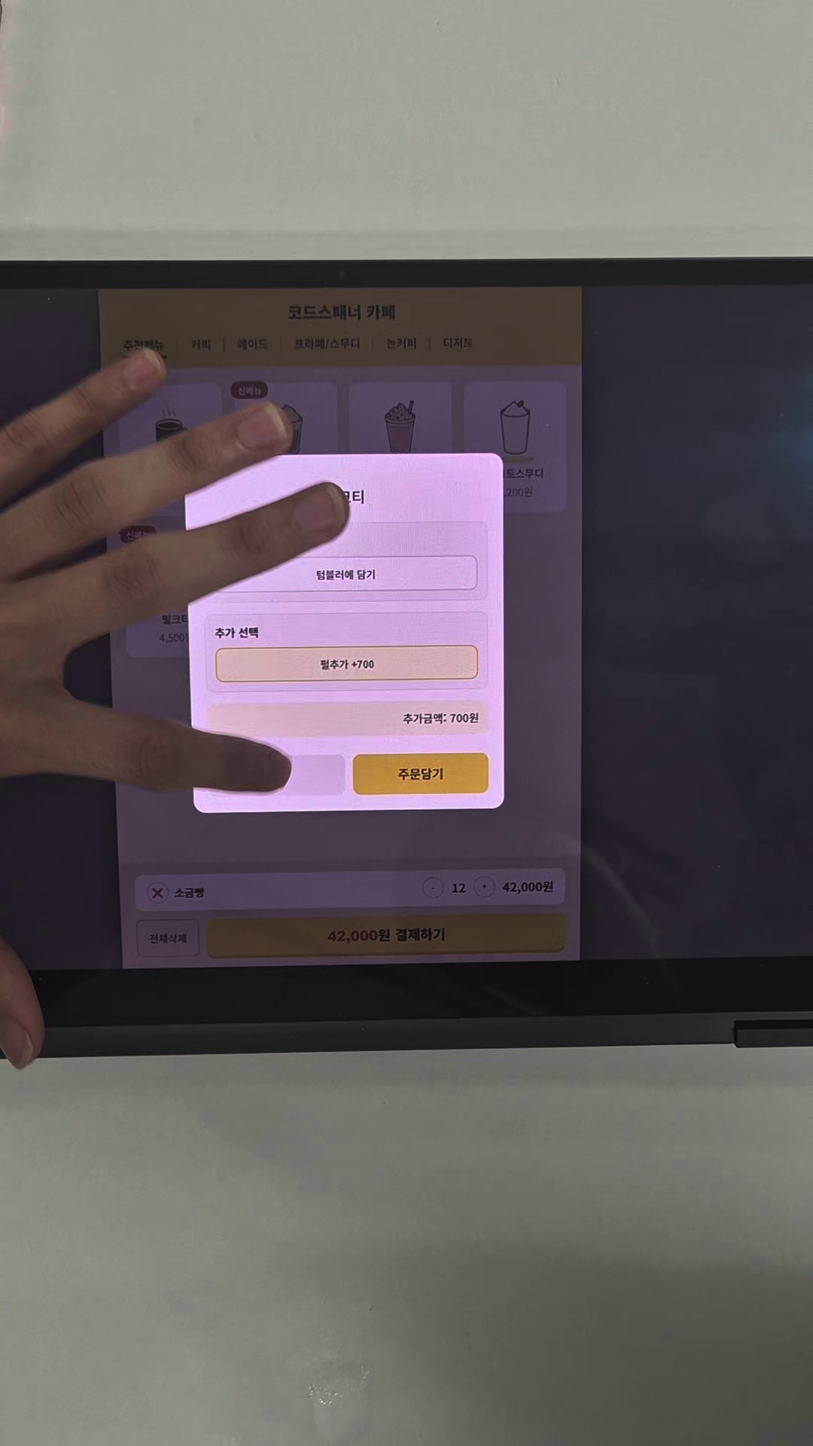action_button: (349, 750, 493, 796)
option_button: (216, 645, 481, 682), (206, 555, 481, 589)
popup_modal: (184, 448, 507, 814)
